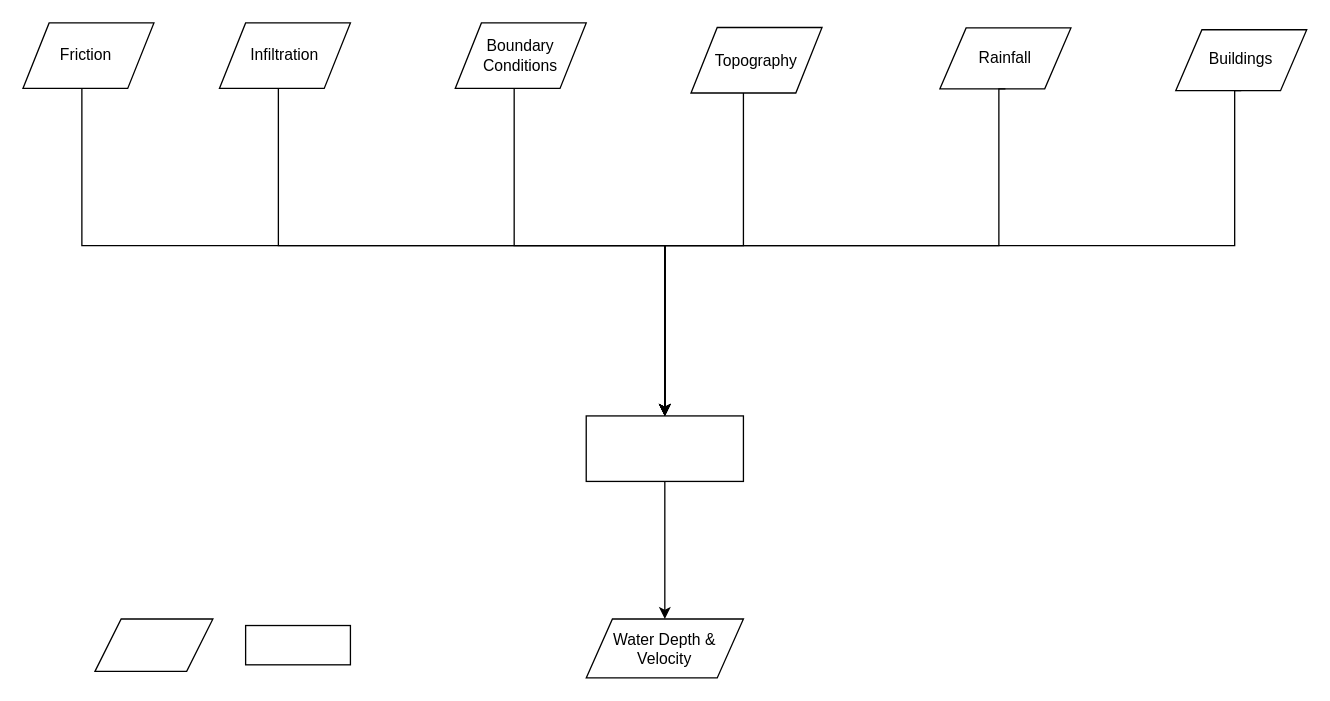
Image size: 1330x701. Some labels were removed from this diagram. The shapes that lost their labels are listed below. From the top down, each one's centre as x and y in pixels, then its label:
(664,448): City Catchment Analysis Tool
(153,644): Dataset
(297,644): Model
